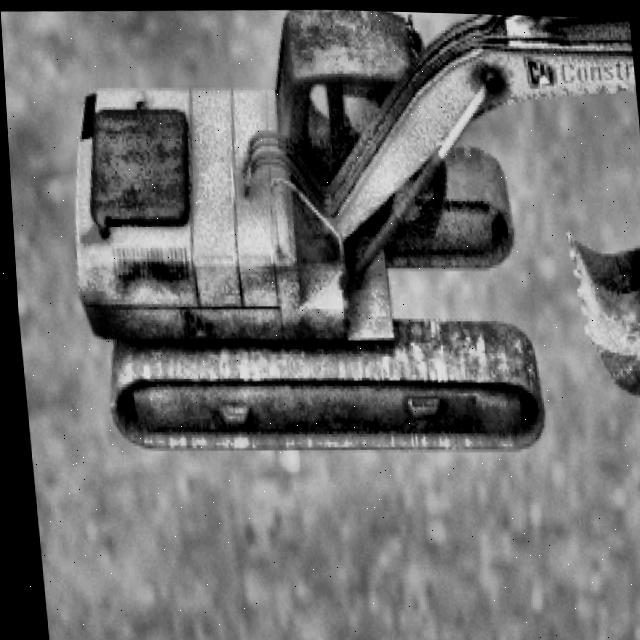excavator: (49, 1, 640, 461)
